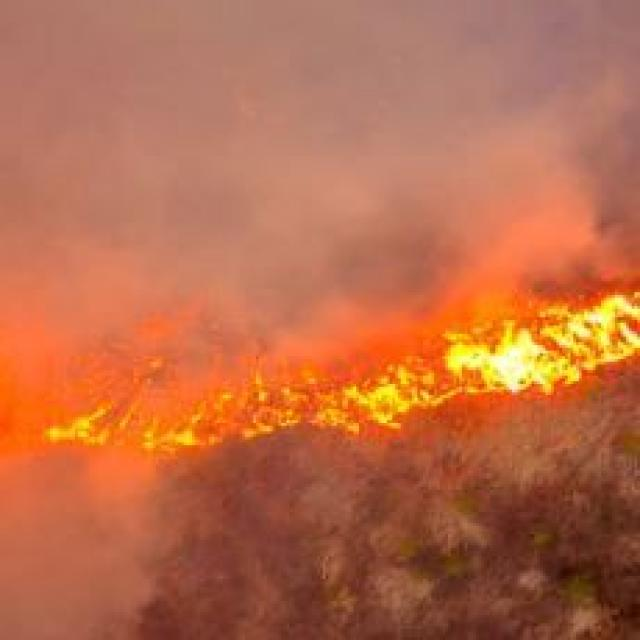Fire: (49, 306, 640, 476)
Smoke: (0, 0, 640, 444)
